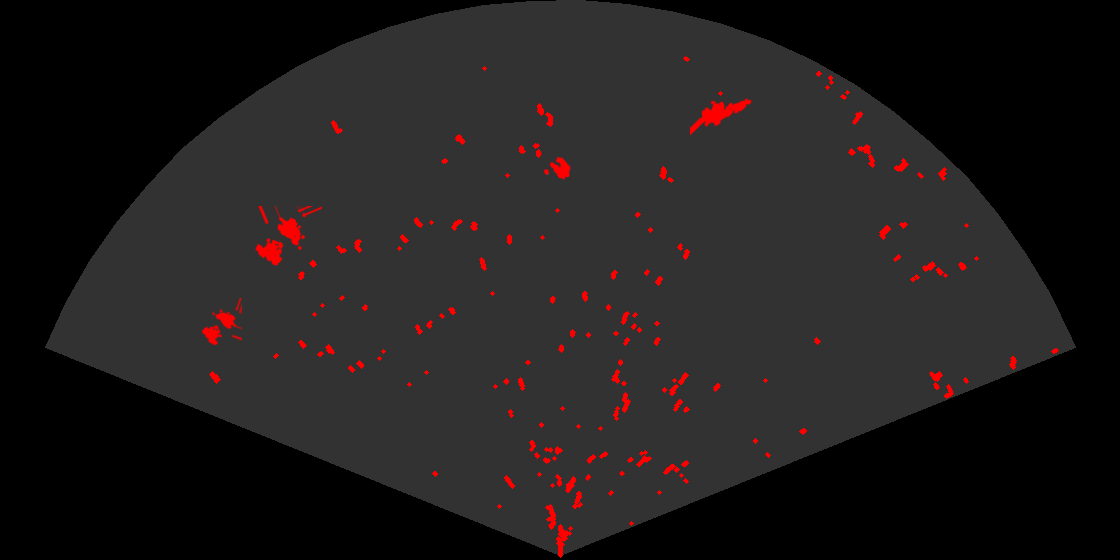ball: (542, 155, 573, 181)
cage: (253, 206, 322, 267), (200, 298, 242, 347)
frogman: (690, 97, 753, 137)
